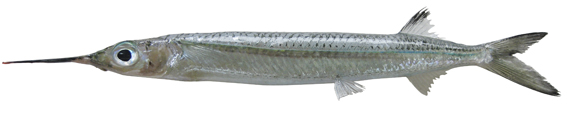fish: (3, 6, 562, 100)
